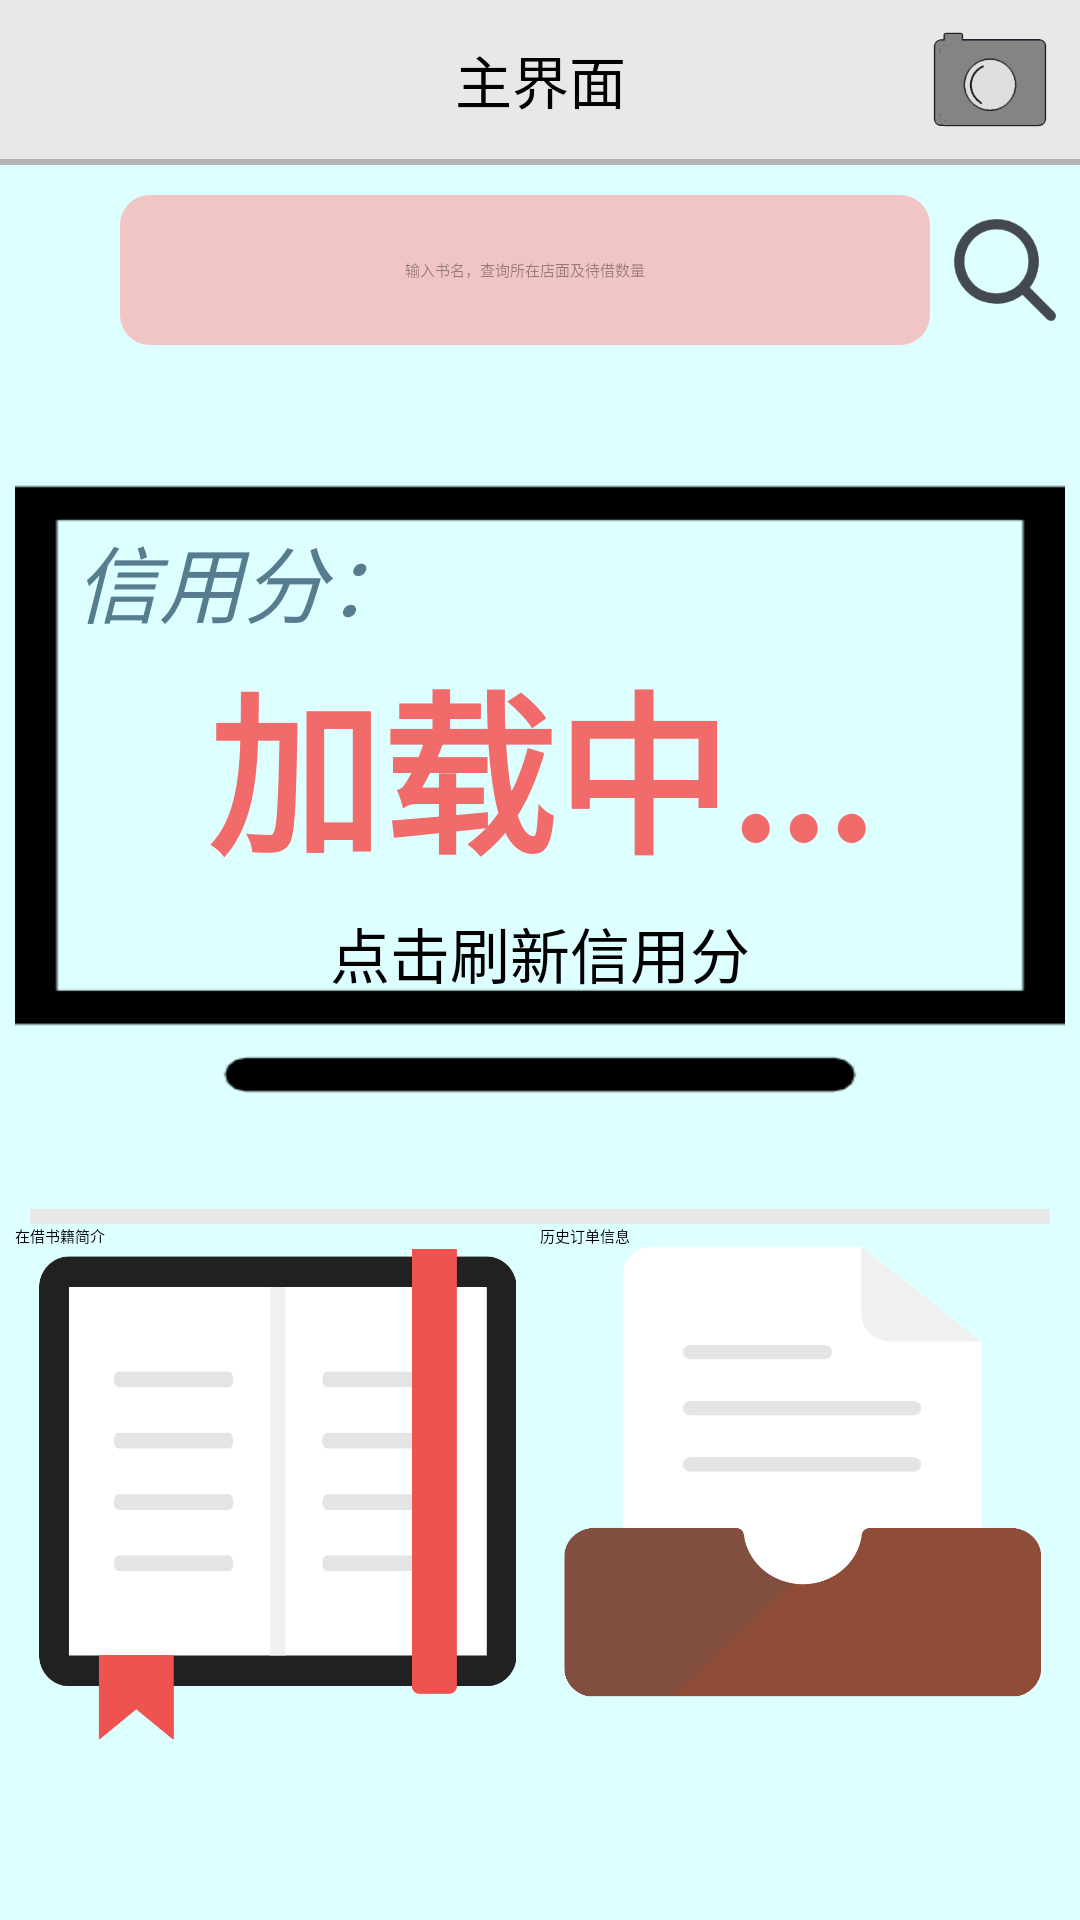

Where to tap for icons on this 1080 × 1920 app screen, as [x,y]:
search: [1005,270]
